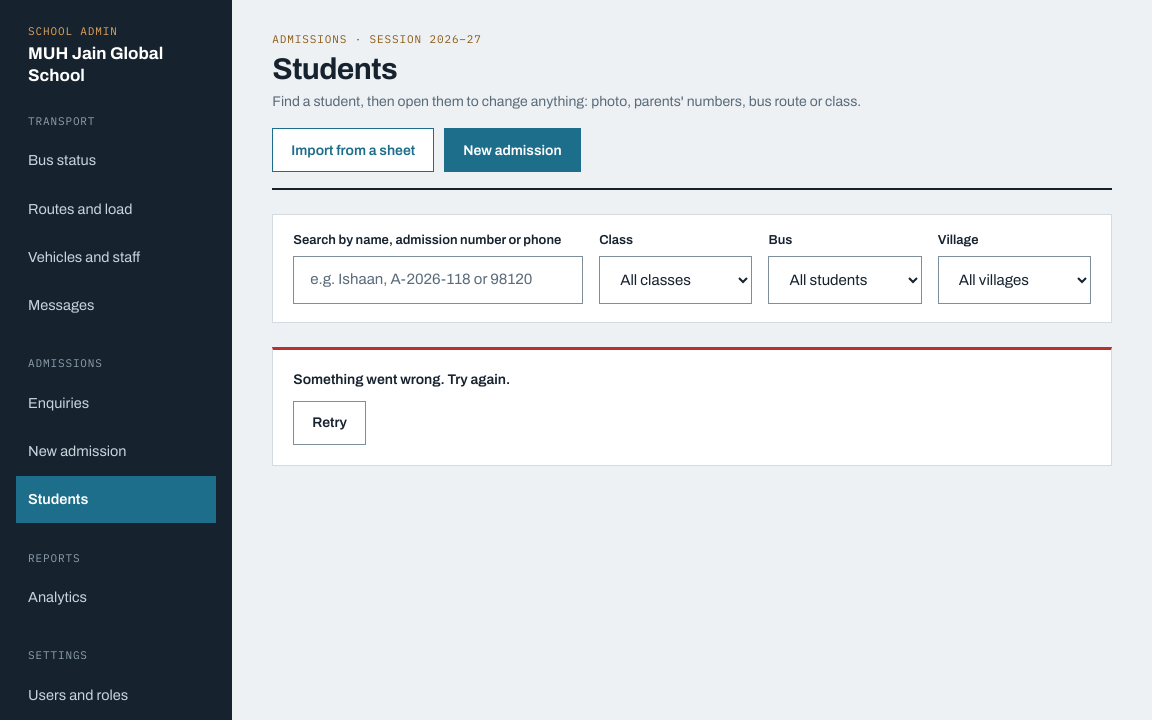
it: Students page › shows an error with Retry, then the list
Expected: the message shows "Something went wrong", [293, 372, 510, 387]
Click the button "Retry": click(330, 423) [293, 401, 366, 445]
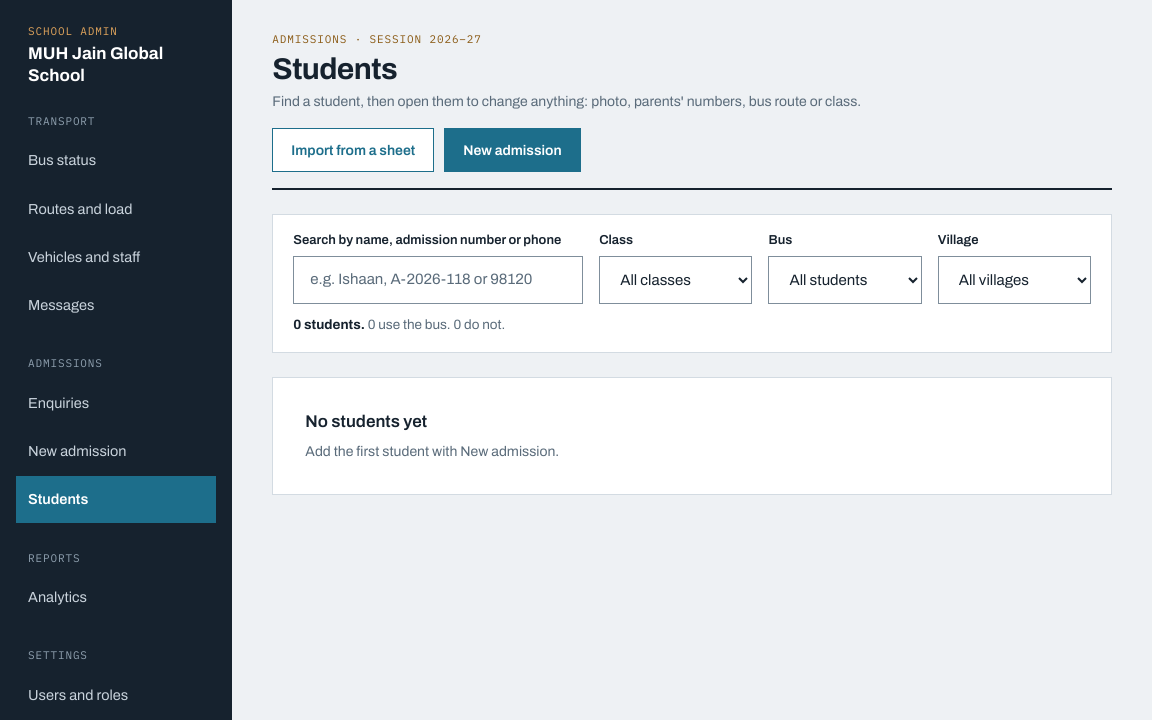
Now the text "No students yet" is shown, box [305, 410, 427, 434]
